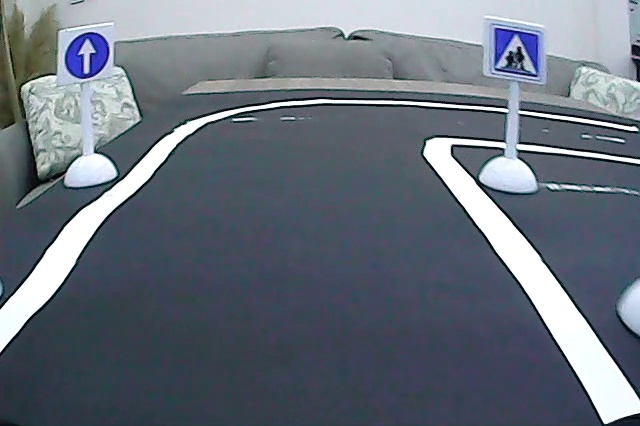school crossing: (490, 24, 544, 80)
